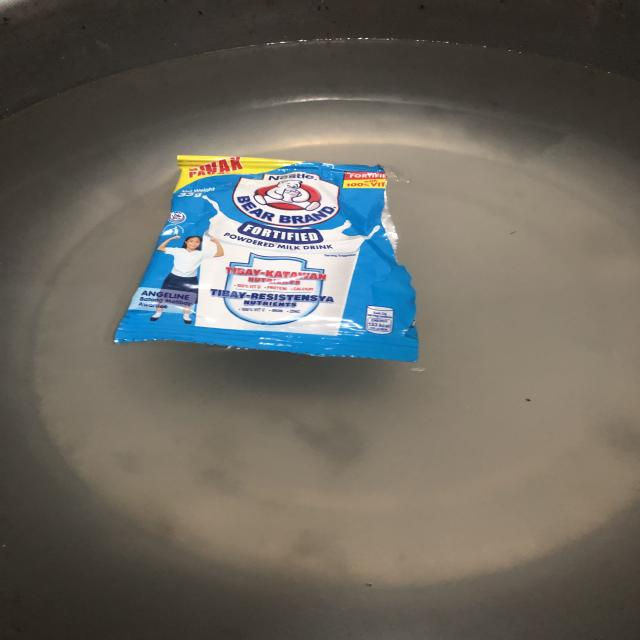Plastic Wrapper: (106, 145, 433, 378)
